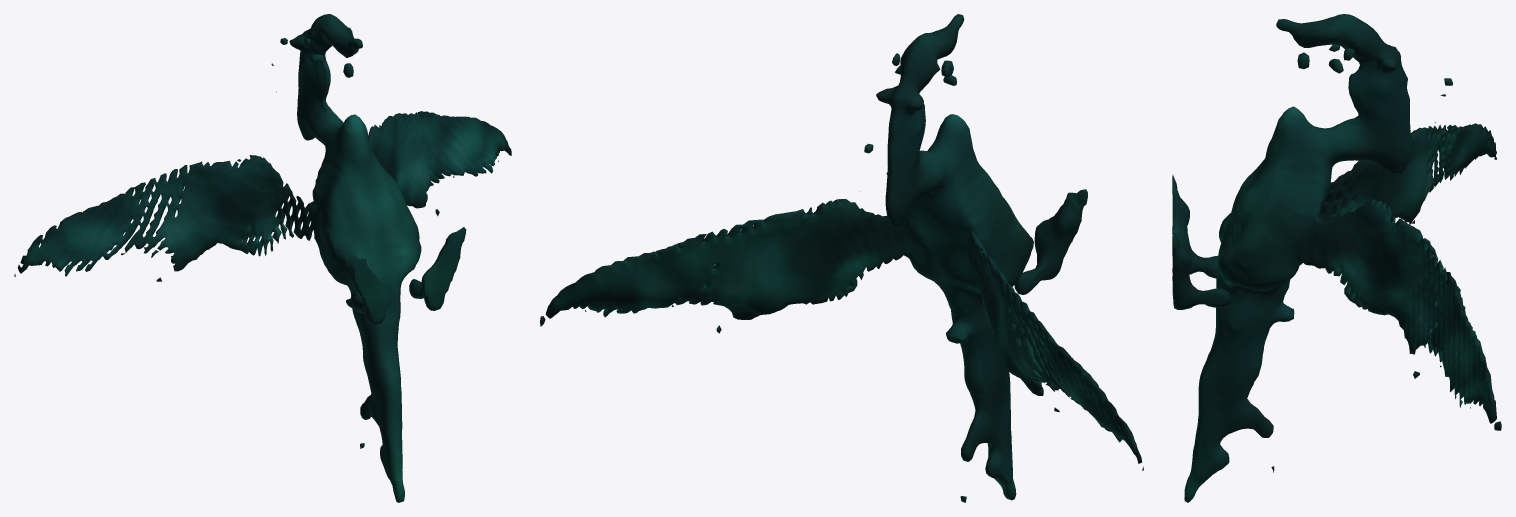
File: dragon_4.FBX
3 views of the same model, side by side, from view 1: azimuth 30°, elevation 25°; view 2: azimuth 150°, elevation 25°; view 3: azimuth 270°, elevation 25° (orthographic). The views are drawn at different scales.
Visible parts, largest first — view 1: plyFile; view 2: plyFile; view 3: plyFile.
Part boxes in pixels (box(x1,y1,x2,y2)): plyFile: box(14, 14, 511, 502); plyFile: box(540, 14, 1143, 502); plyFile: box(1172, 14, 1501, 502).
Bounding box in the file's own units: 197 × 165 × 101.
